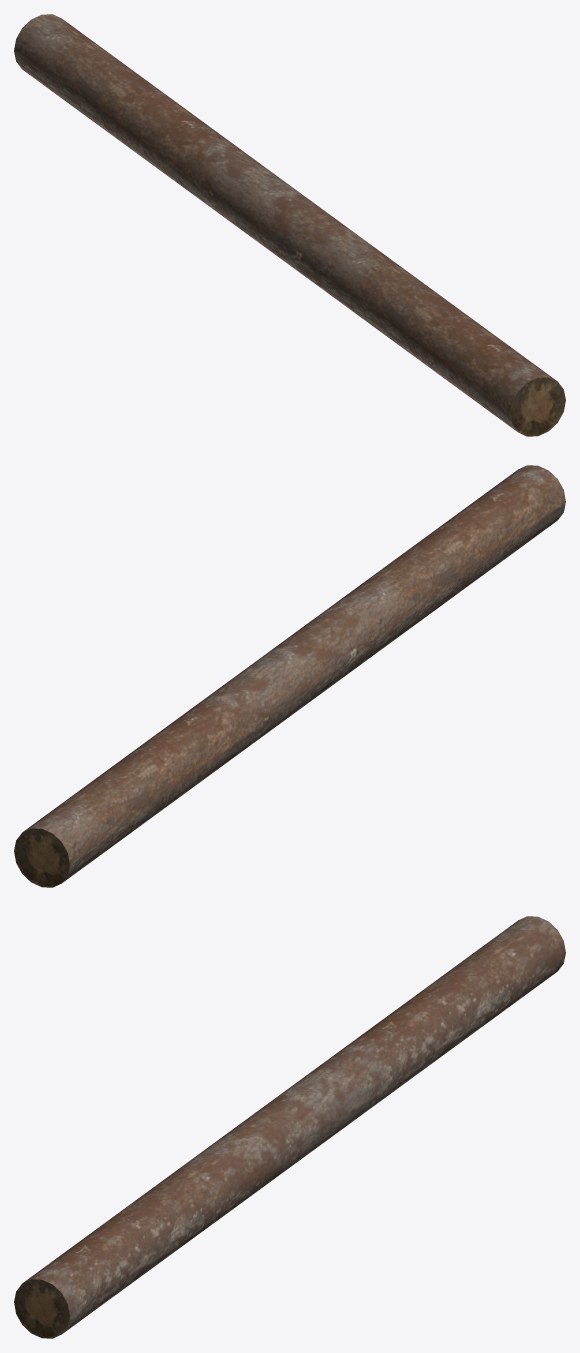
The model's file is piece.obj.
3 renders of one model, top to bottom at view 1: azimuth 30°, elevation 25°; view 2: azimuth 150°, elevation 25°; view 3: azimuth 330°, elevation 25°, orthographic.
Parts seen in each view (by area): view 1: SupportWoodB_S; view 2: SupportWoodB_S; view 3: SupportWoodB_S.
Boxes of the visible parts, x1=… form: SupportWoodB_S: x1=14, y1=14, x2=565, y2=436; SupportWoodB_S: x1=14, y1=465, x2=565, y2=887; SupportWoodB_S: x1=14, y1=916, x2=565, y2=1338.
Bounding box in the file's own units: 0.077 × 0.077 × 1.18.
Materials: 1 (1 with a texture image).
